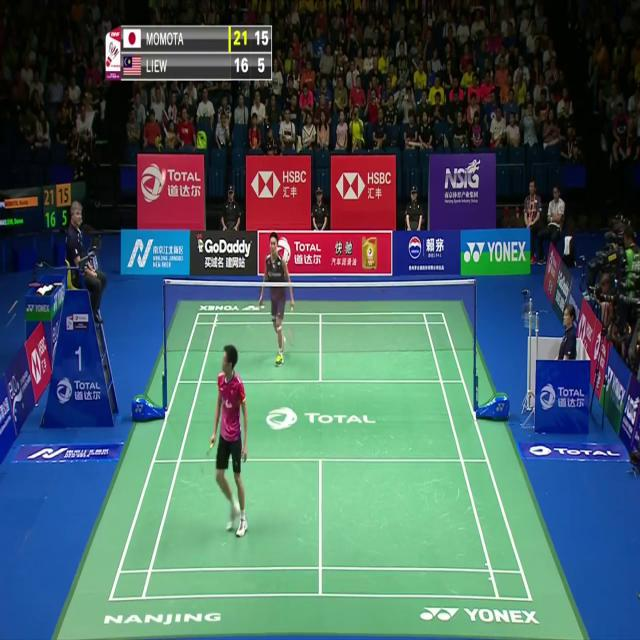Shuttlecock: (160, 172, 166, 184)
